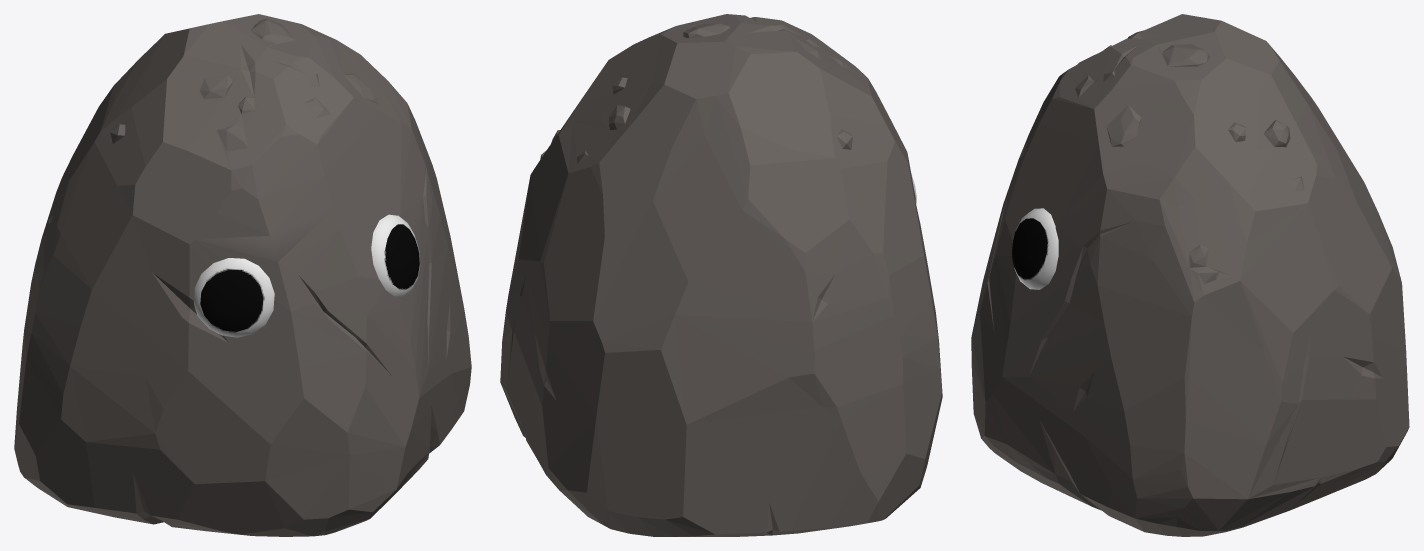
File: rockcube.fbx
3 renders of one model, left to right at view 1: azimuth 30°, elevation 25°; view 2: azimuth 150°, elevation 25°; view 3: azimuth 270°, elevation 25°, orthographic. The views are drawn at different scales.
Visible parts, largest first — view 1: defaultMaterial_Baked; view 2: defaultMaterial_Baked; view 3: defaultMaterial_Baked.
Boxes of the visible parts, x1,y1,x2,y2 form: defaultMaterial_Baked: (14,14,471,536); defaultMaterial_Baked: (500,14,942,536); defaultMaterial_Baked: (971,14,1409,536).
Bounding box in the file's own units: 228 × 229 × 215.
Materials: 1 (1 with a texture image).
